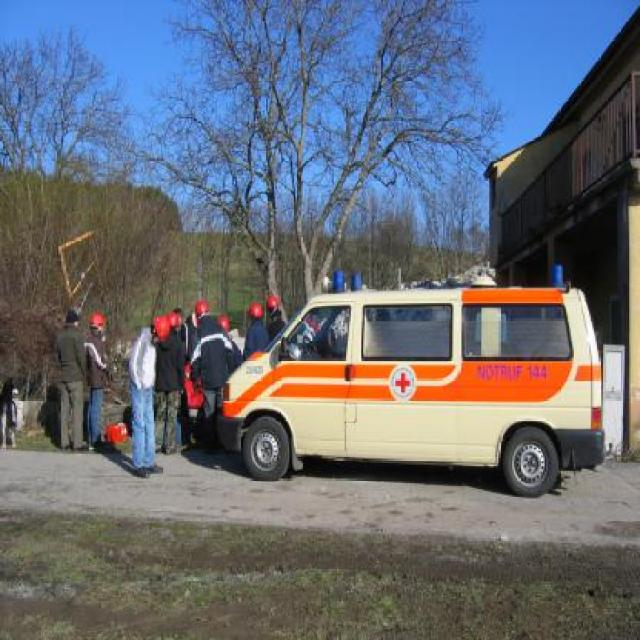truck: (214, 266, 606, 499)
